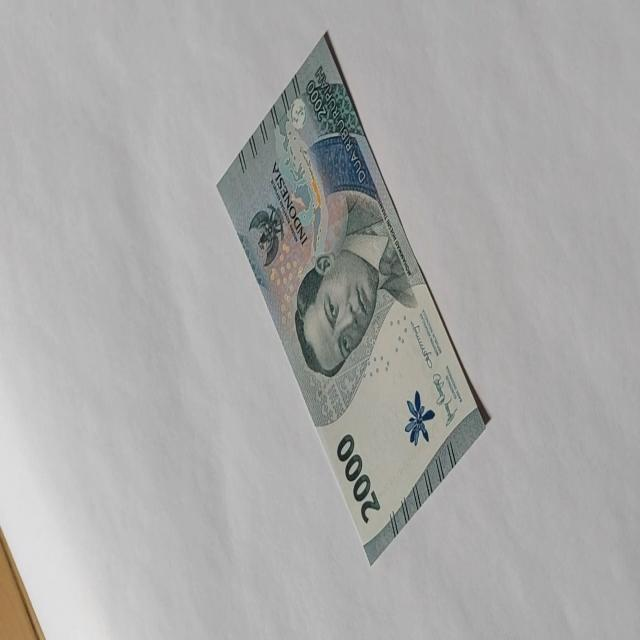dua ribu rupiah: (215, 29, 488, 566), (293, 188, 418, 378)
